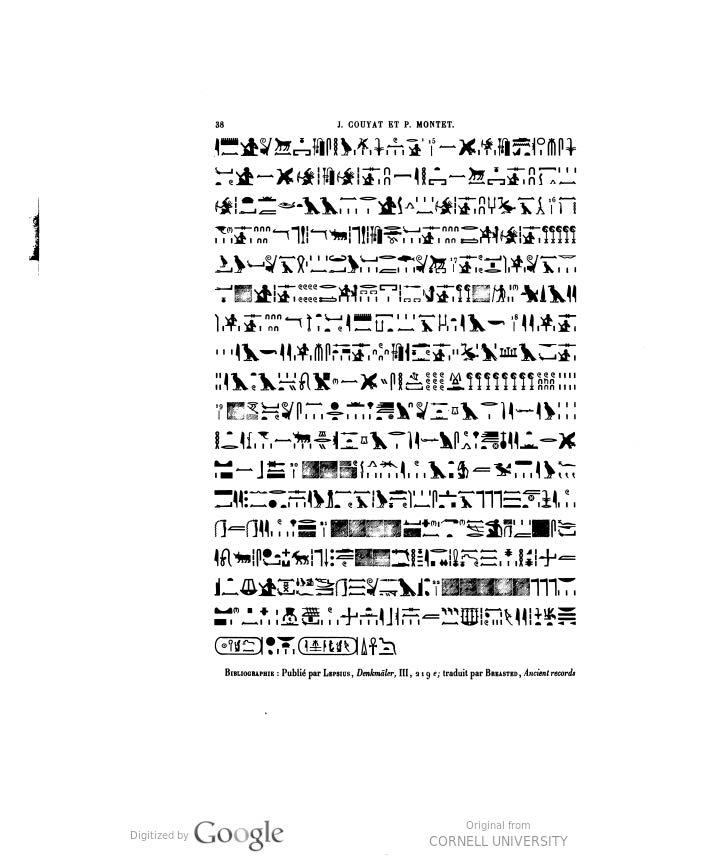circle: (294, 630, 368, 660), (213, 634, 268, 659)
